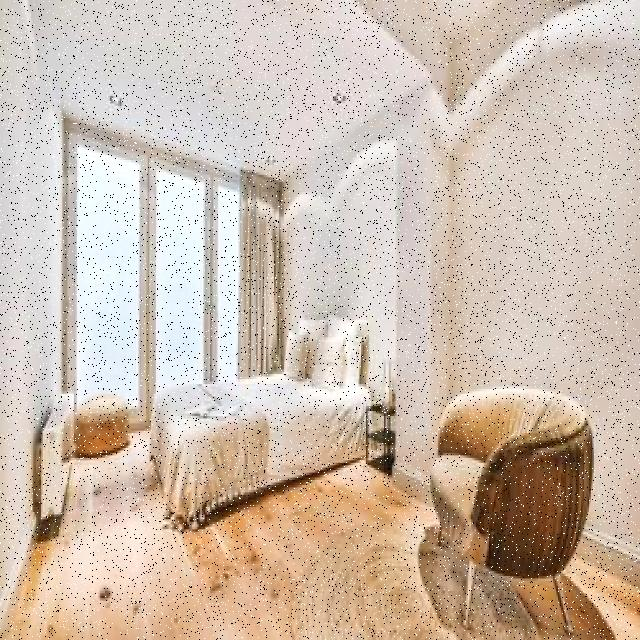bed: (148, 309, 366, 507)
